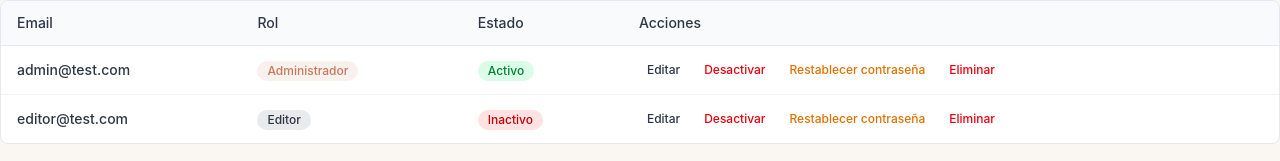
Scenario: UsuariosTable (USR-001) › shows confirmation before deactivating
# Click deactivate on first user
Click the button with test id "deactivate-user" in the row of "admin@test.com" at (735, 70), box x1=696 y1=58 x2=774 y2=82
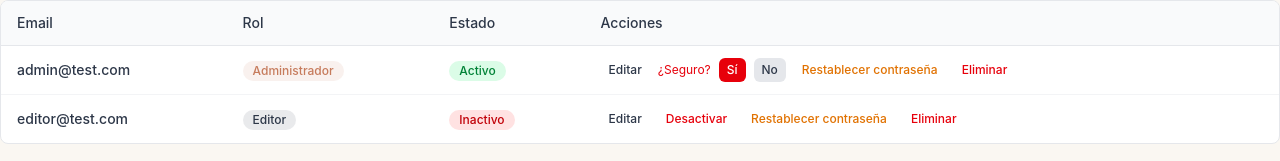
Result: the text "Seguro" is shown at x1=658 y1=62 x2=711 y2=77
